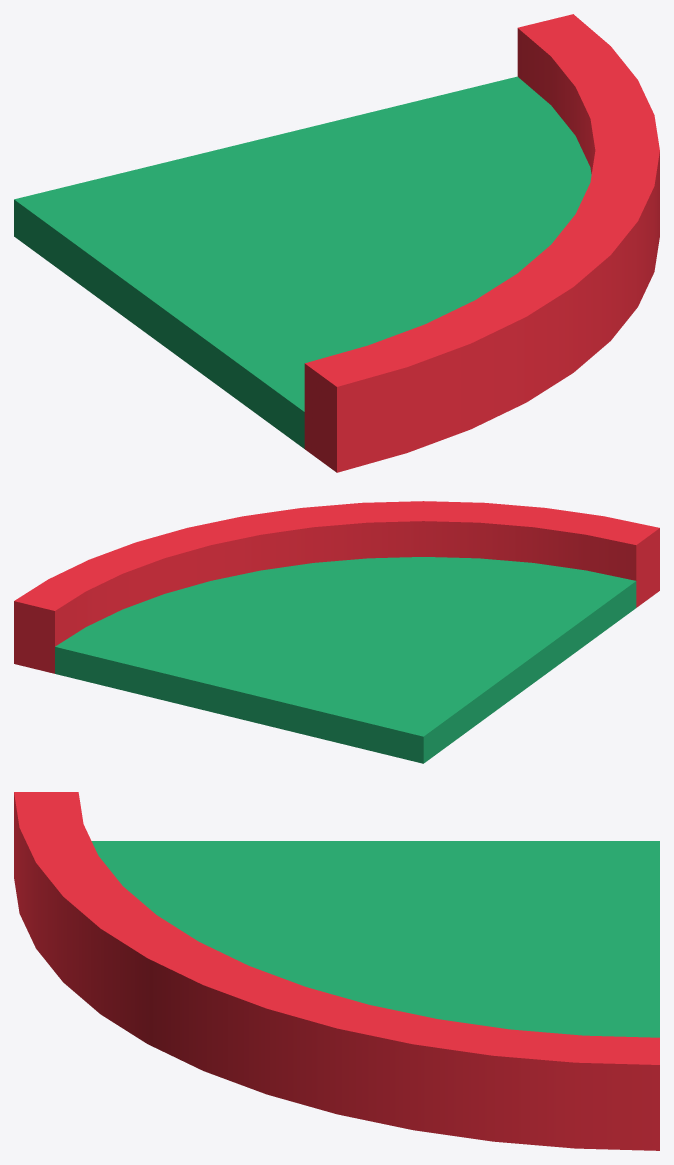
The model's file is roundCornerC.fbx.
3 renders of one model, top to bottom at view 1: azimuth 30°, elevation 25°; view 2: azimuth 150°, elevation 25°; view 3: azimuth 270°, elevation 25°, orthographic. The views are drawn at different scales.
Parts seen in each view (by area): view 1: roundCornerC; view 2: roundCornerC; view 3: roundCornerC.
Part boxes in pixels (x1,y1,x2,y2): roundCornerC: (14, 14, 659, 472); roundCornerC: (14, 501, 659, 763); roundCornerC: (14, 792, 659, 1150).
Bounding box in the file's own units: 10 × 1.47 × 10.
